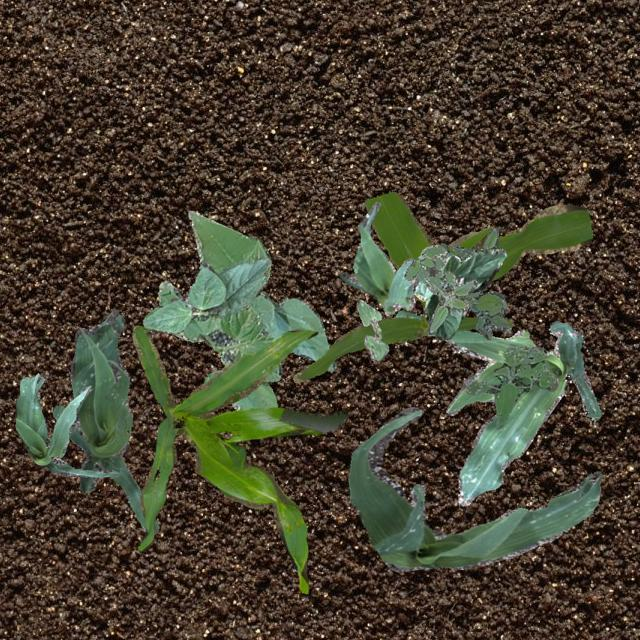crop: (132, 324, 348, 592), (293, 190, 592, 382), (347, 406, 600, 572), (393, 310, 600, 504), (157, 210, 336, 410), (51, 308, 158, 534), (338, 200, 452, 314), (15, 372, 124, 476), (142, 256, 270, 332), (412, 248, 504, 340), (356, 298, 388, 361)
weed: (464, 343, 558, 428), (438, 226, 509, 338), (404, 244, 476, 334)
